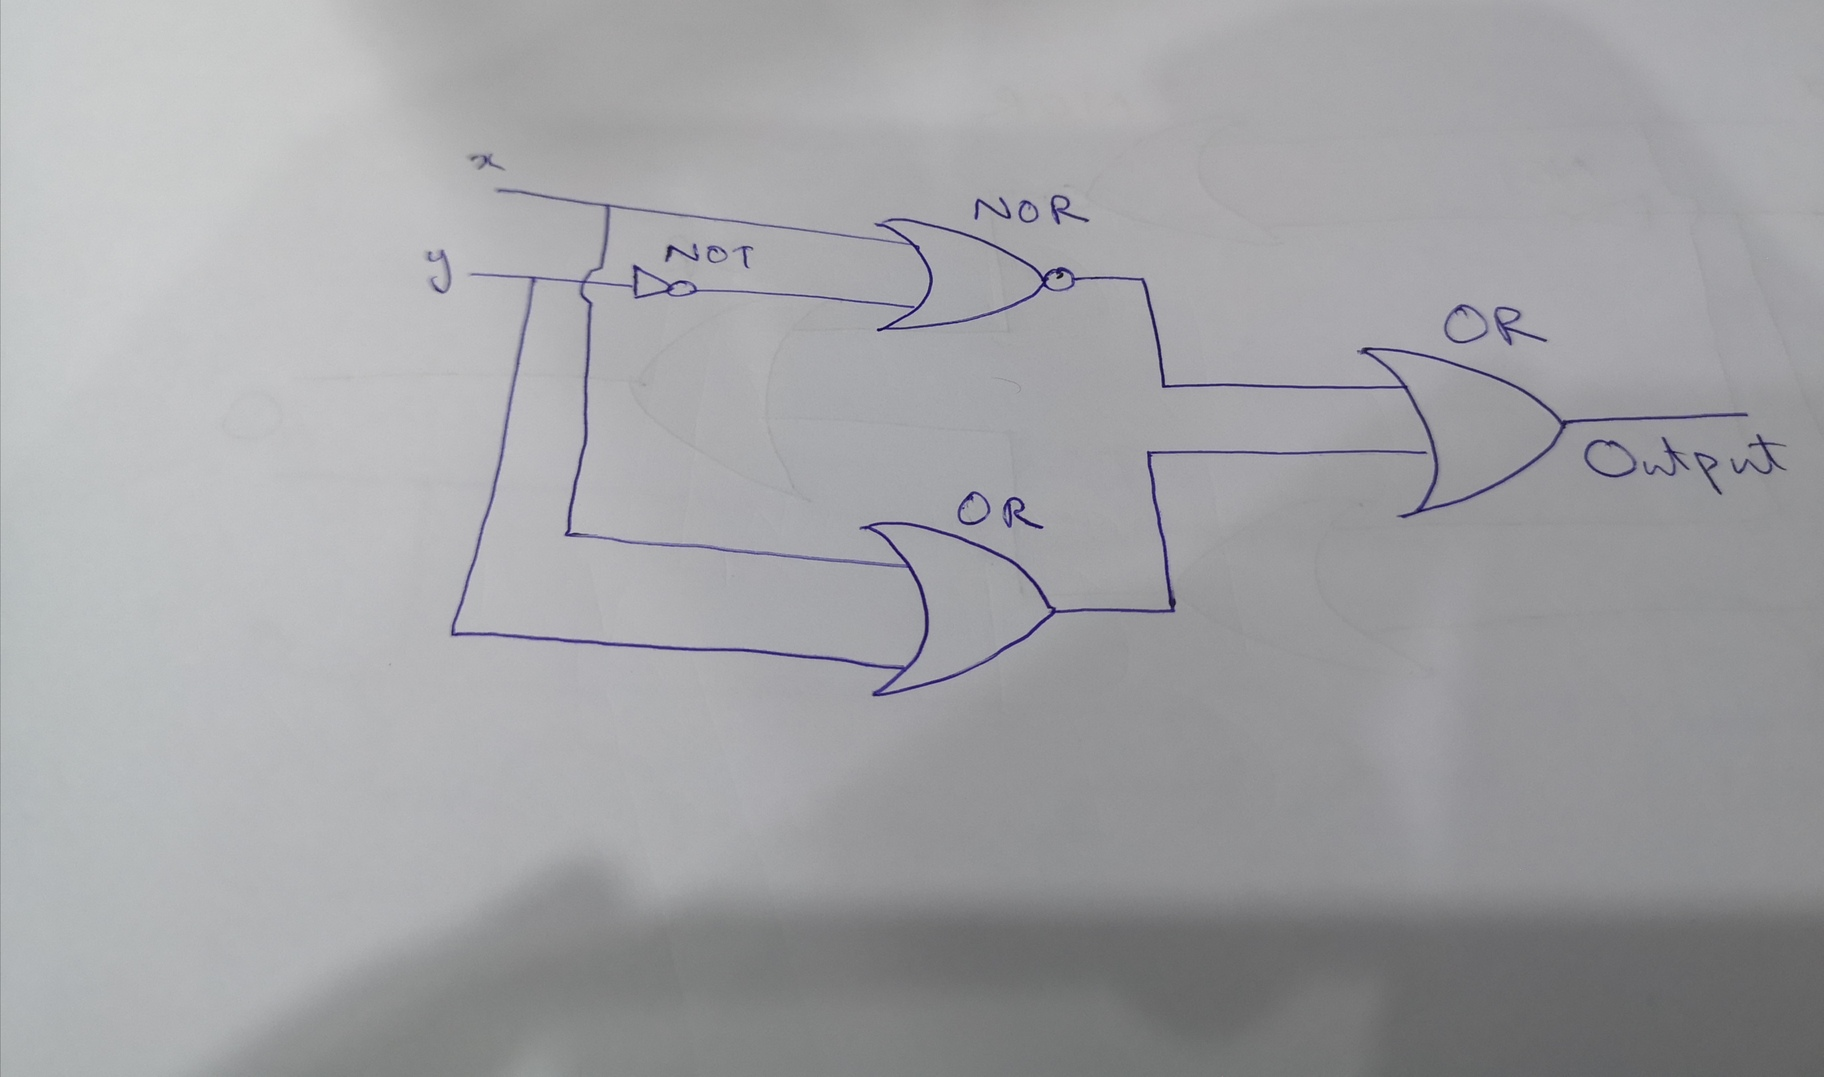crossover: (576, 262, 606, 309)
junction: (1154, 589, 1190, 626), (1127, 265, 1159, 294), (518, 268, 546, 288), (1152, 376, 1175, 397), (444, 623, 463, 644), (1140, 444, 1159, 464), (597, 195, 617, 214), (558, 524, 576, 544)
nor: (869, 212, 1083, 338)
not: (628, 262, 702, 304)
or: (1348, 342, 1575, 522), (855, 515, 1064, 699)
terminal: (1734, 404, 1760, 424), (488, 182, 506, 197), (461, 267, 479, 281)
text: (1580, 424, 1792, 499), (1433, 300, 1550, 356), (972, 188, 1091, 232), (951, 488, 1046, 533), (659, 233, 761, 274), (420, 245, 454, 297), (467, 150, 505, 173)
